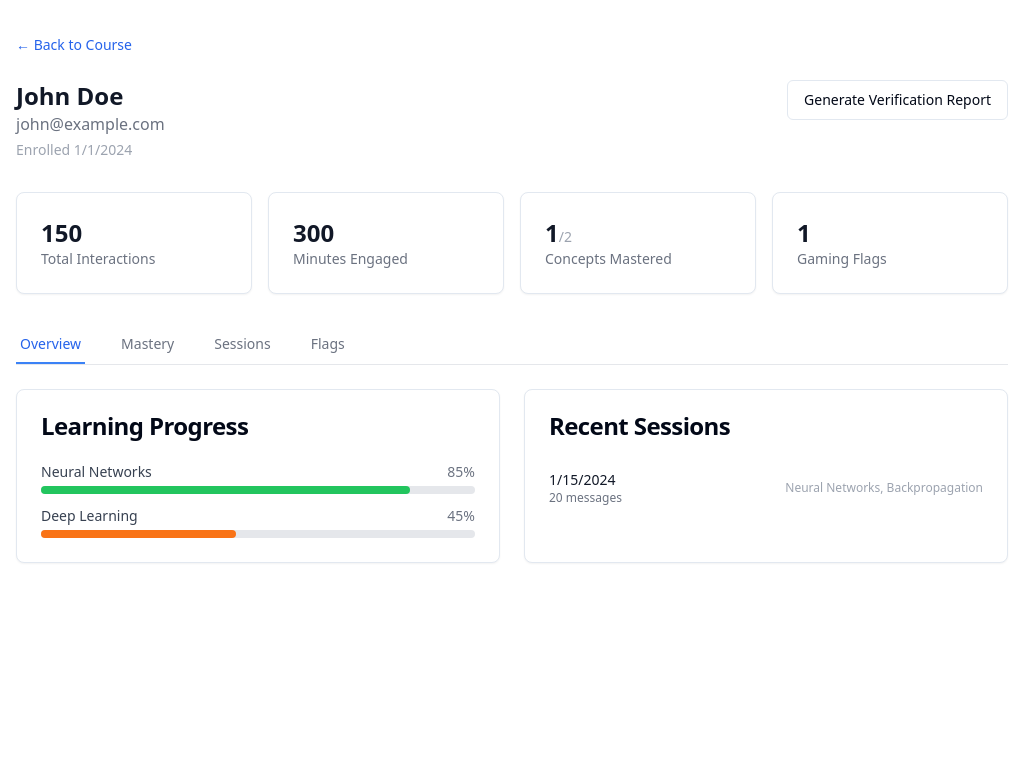
Scenario: StudentView › tabs › should switch to flags tab when clicked
Expected: the heading "John Doe" is shown, [16,79,123,112]
What coordinates should you click on to do the following:
click the button "flags"
I would click on:
 (328, 345)
Its box is [307,326,349,364].
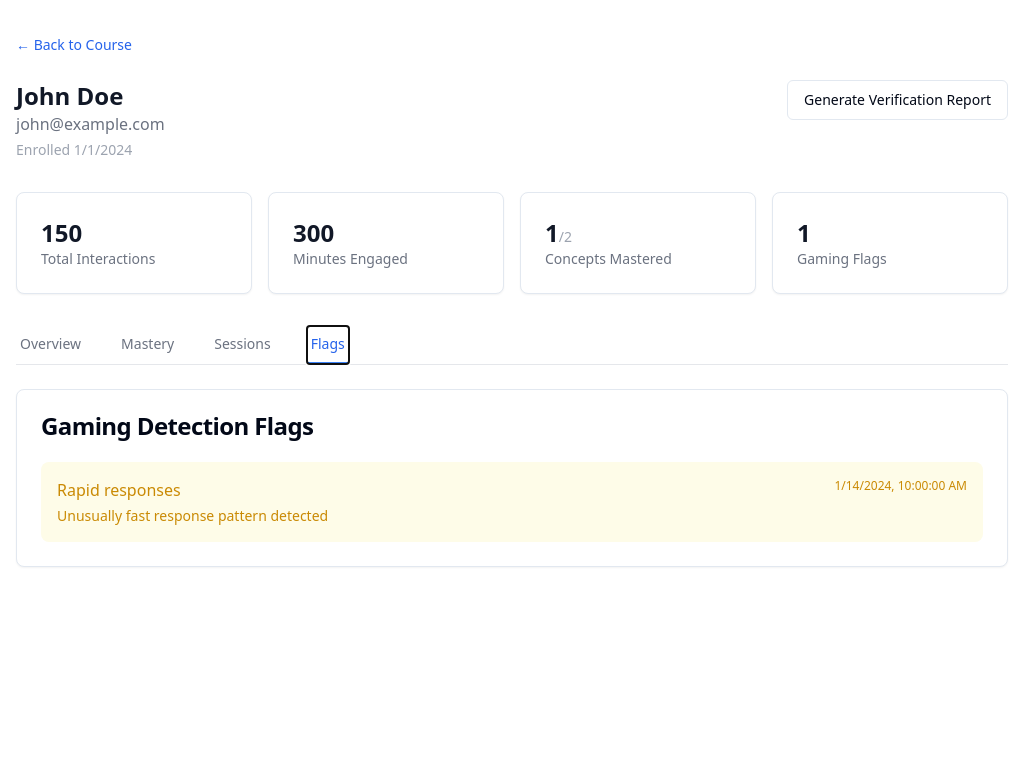
Result: the heading "Gaming Detection Flags" is shown at [41,409,313,442]
